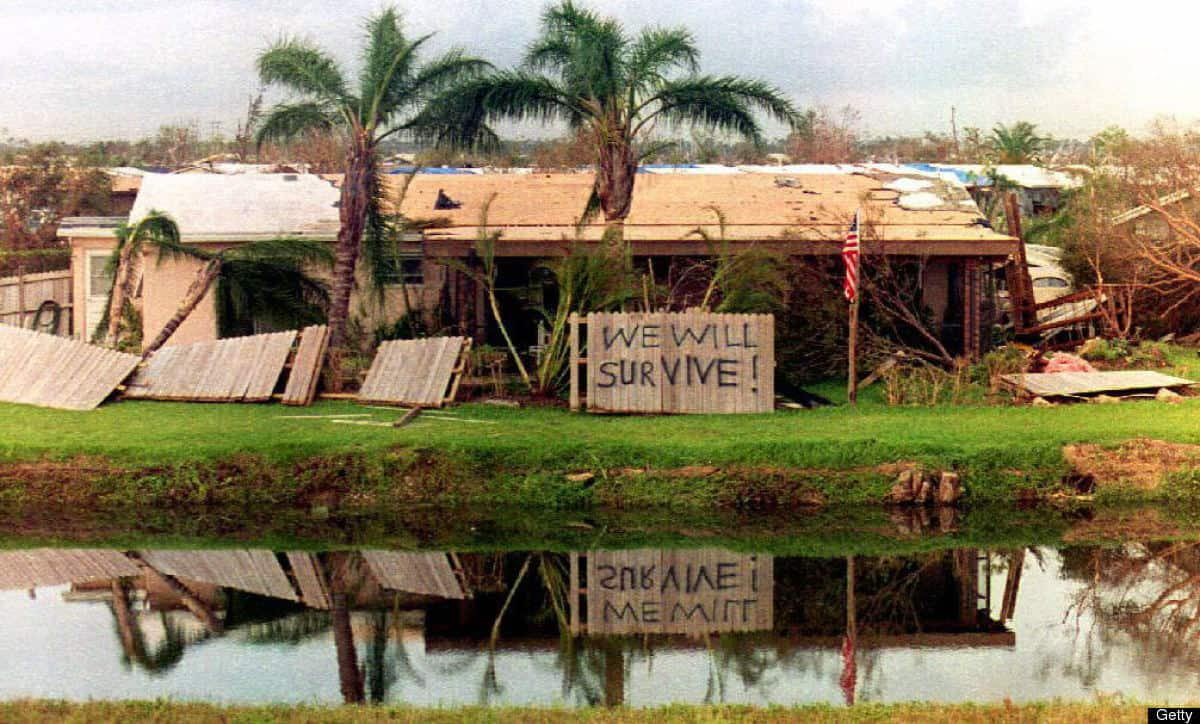major: (88, 124, 1176, 420)
